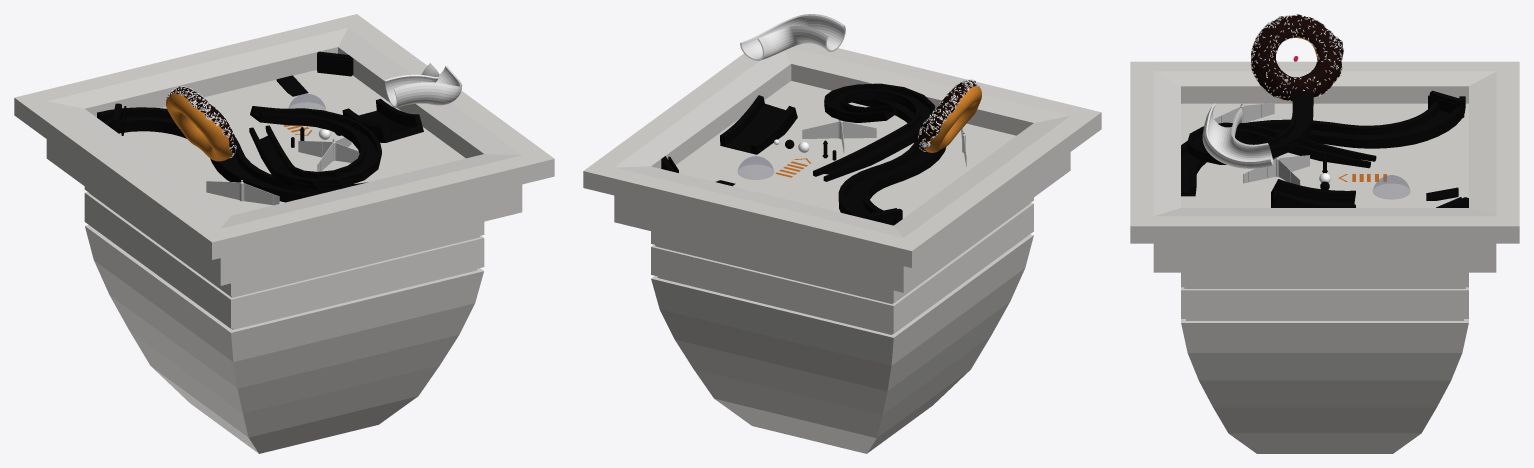
File: T5Arena (2).fbx
3 views of the same model, side by side, from view 1: azimuth 30°, elevation 25°; view 2: azimuth 150°, elevation 25°; view 3: azimuth 270°, elevation 25° (orthographic). The views are drawn at different scales.
Parts seen in each view (by area): view 1: Arena, ORanp, SRanp, STube, Torus, Cube, RevolvingDoor, SpinDoor, BounceBoard, Cube_1; view 2: Arena, ORanp, SRanp, STube, Cube, Torus, RevolvingDoor, Cube_1, Blackhole; view 3: Arena, SRanp, Cube_1, ORanp, STube, Cube, RevolvingDoor, SpinDoor, Blackhole, BounceBoard_1.
Part boxes in pixels (left/top/right/bottom): Arena: left=14, top=14, right=554, bottom=453; ORanp: left=249, top=106, right=381, bottom=189; SRanp: left=97, top=107, right=367, bottom=202; STube: left=385, top=63, right=462, bottom=108; Torus: left=166, top=93, right=232, bottom=161; Cube: left=342, top=98, right=423, bottom=142; RevolvingDoor: left=298, top=137, right=359, bottom=171; SpinDoor: left=206, top=180, right=279, bottom=205; BounceBoard: left=317, top=51, right=353, bottom=76; Cube_1: left=167, top=86, right=235, bottom=156; Arena: left=583, top=43, right=1101, bottom=453; ORanp: left=813, top=83, right=935, bottom=181; SRanp: left=838, top=99, right=946, bottom=225; STube: left=740, top=14, right=845, bottom=60; Cube: left=720, top=95, right=797, bottom=154; Torus: left=925, top=86, right=981, bottom=152; RevolvingDoor: left=802, top=120, right=876, bottom=153; Cube_1: left=918, top=80, right=977, bottom=150; Blackhole: left=737, top=156, right=774, bottom=179; Arena: left=1130, top=61, right=1519, bottom=453; SRanp: left=1181, top=96, right=1465, bottom=196; Cube_1: left=1251, top=14, right=1343, bottom=101; ORanp: left=1187, top=90, right=1376, bottom=168; STube: left=1202, top=103, right=1273, bottom=168; Cube: left=1271, top=179, right=1355, bottom=207; RevolvingDoor: left=1243, top=155, right=1309, bottom=185; SpinDoor: left=1214, top=103, right=1274, bottom=123; Blackhole: left=1373, top=175, right=1410, bottom=199; BounceBoard_1: left=1428, top=90, right=1464, bottom=118.
Bounding box in the file's own units: 203 × 205 × 203.
